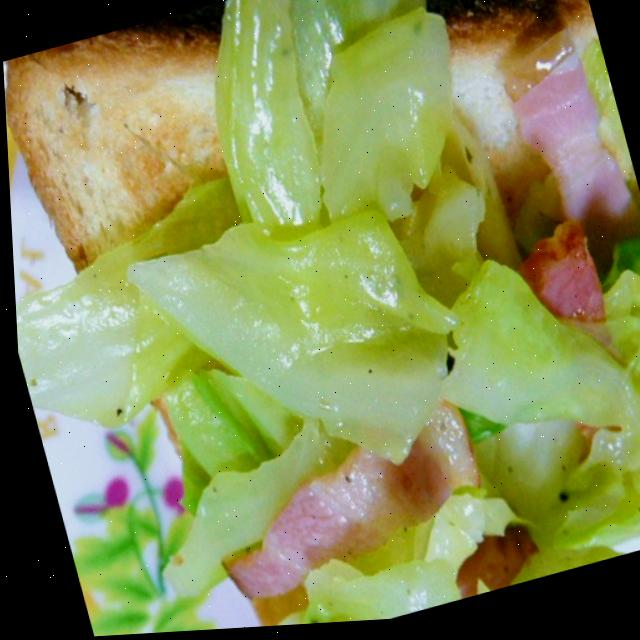蔬菜料理: (25, 35, 640, 639)
